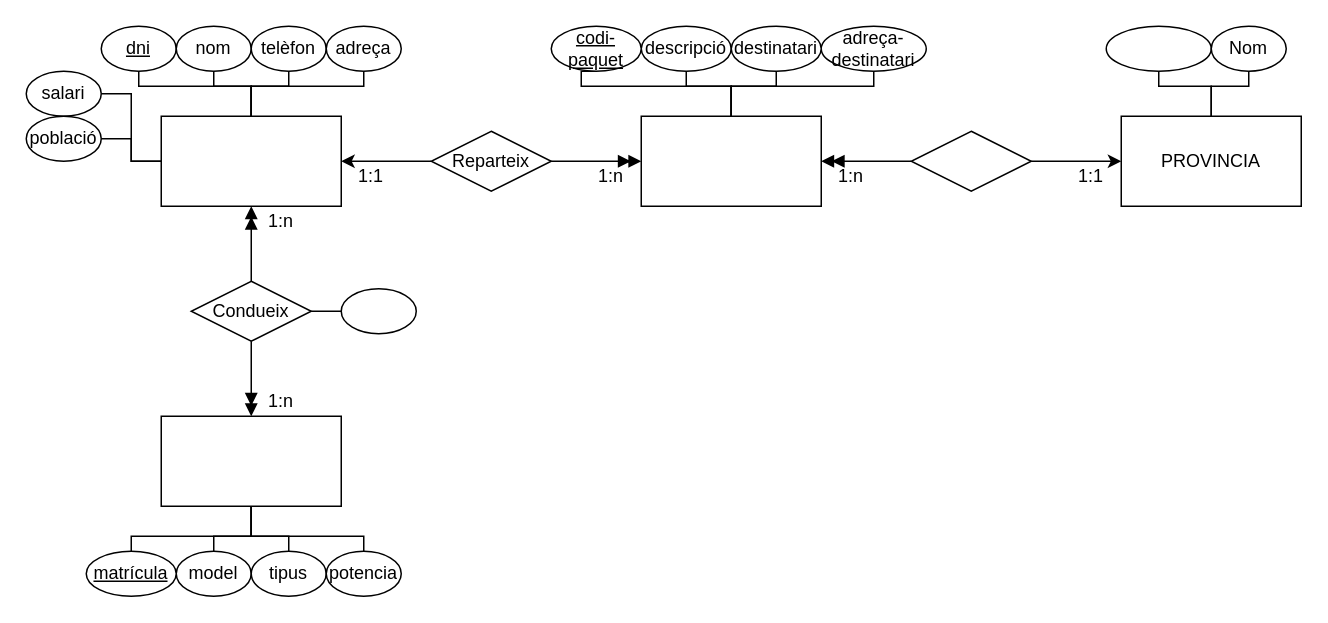
The diagram is 1328 pixels wide and 623 high, and some of its shapes have lost their labels. The centre of each missing label's shape, as x and y in pixels:
"Arriba" goes at point (970, 160).
"CAMIONER" goes at point (250, 160).
"CAMIÓ" goes at point (250, 460).
"Codi-provincia" goes at point (1158, 48).
"data" goes at point (378, 310).
"PAQUET" goes at point (730, 160).
